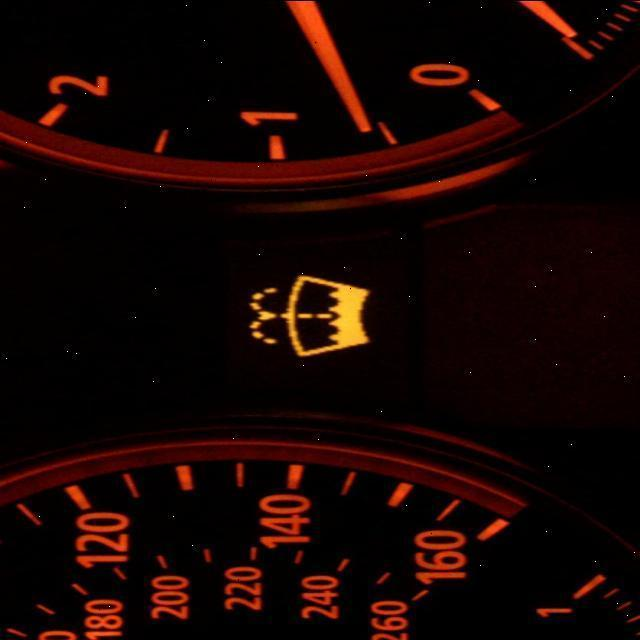Washer Fluid: (248, 272, 370, 356)
